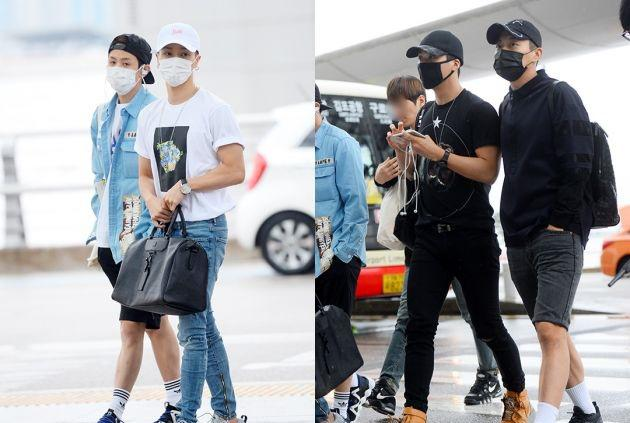OK: (495, 37, 539, 81), (106, 54, 148, 96), (155, 43, 194, 82), (418, 51, 453, 86)
